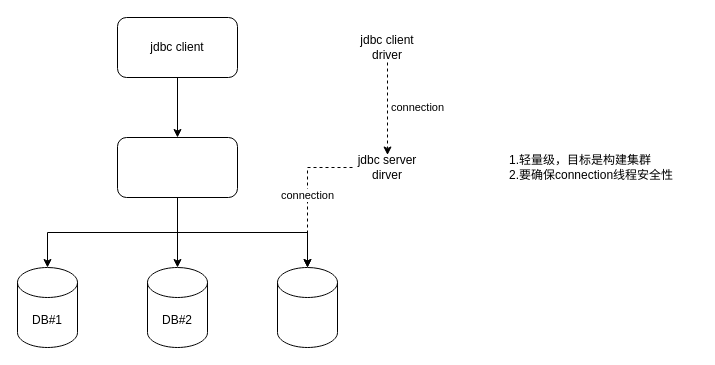
Image size: 715x365. Some labels were removed from this diagram. Each missing label, with the centre of its shape:
DB#3: the point at 307,307
jdbc proxy: the point at 177,167
